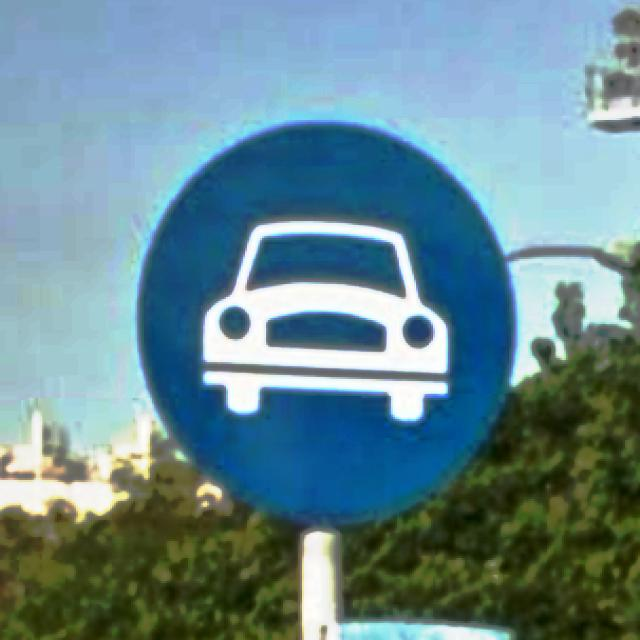car: (133, 116, 518, 528)
